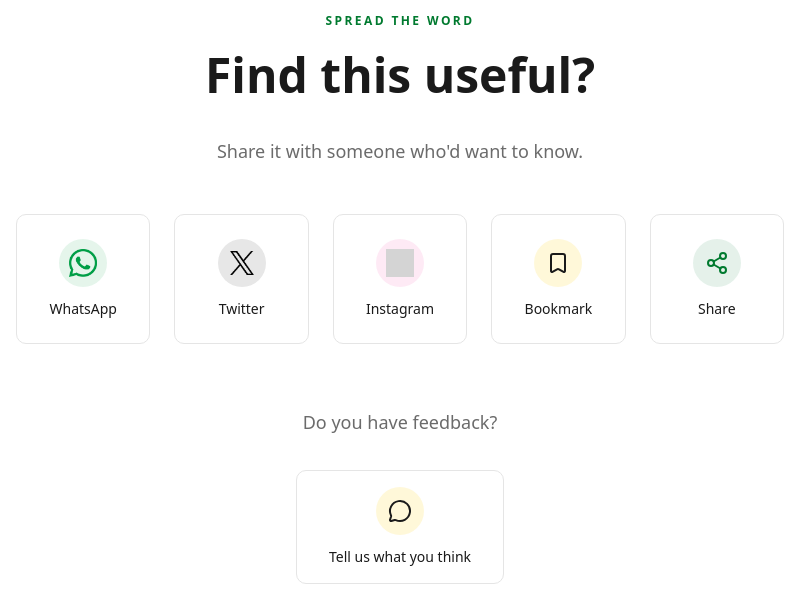
it: ShareSection › should hide bookmark tooltip when clicked again
Click the button with aria-label "Bookmark this page" at (558, 279), box [491,214,626,344]
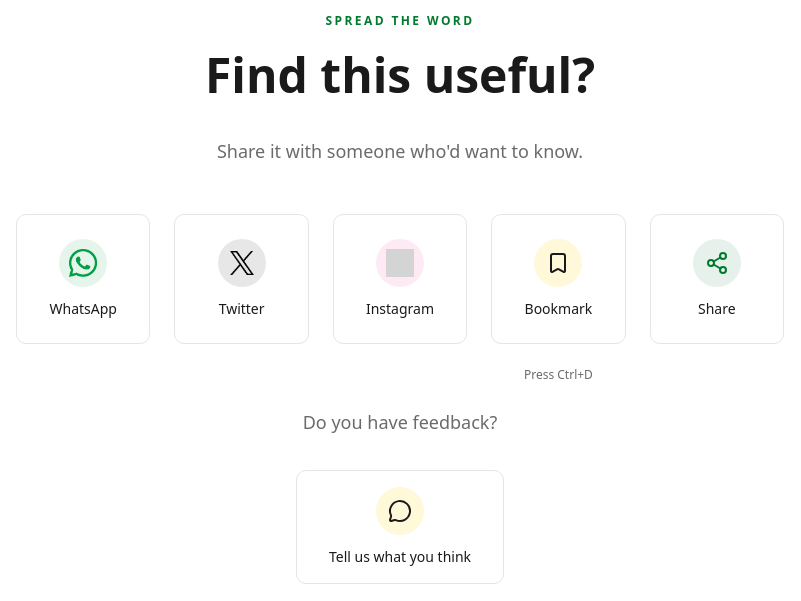
// user clicks the bookmark button again
Click the button with aria-label "Bookmark this page" at (558, 279), box [491,214,626,344]
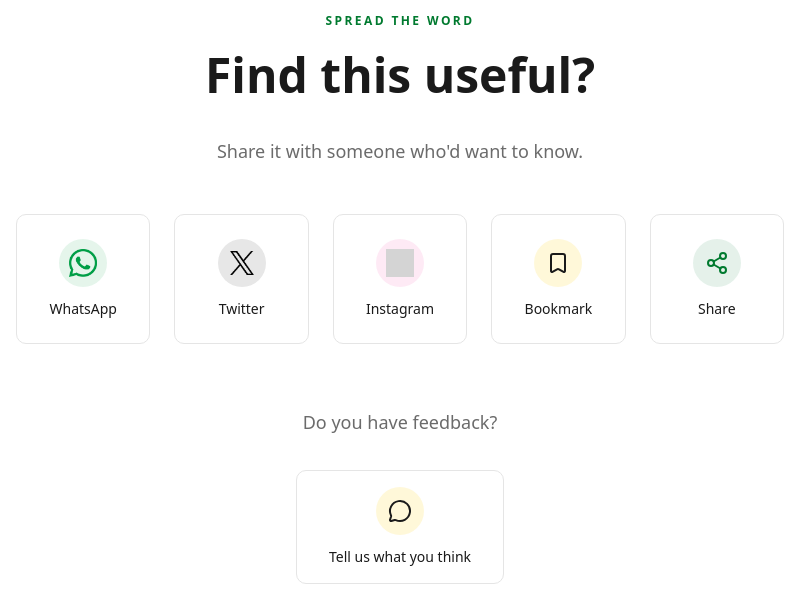
Expected: the text "Press Ctrl+D" is gone
